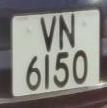0: (71, 46, 90, 90)
1: (42, 52, 54, 94)
5: (52, 51, 72, 91)
6: (24, 53, 44, 95)
N: (57, 11, 78, 53)
V: (37, 13, 58, 55)
